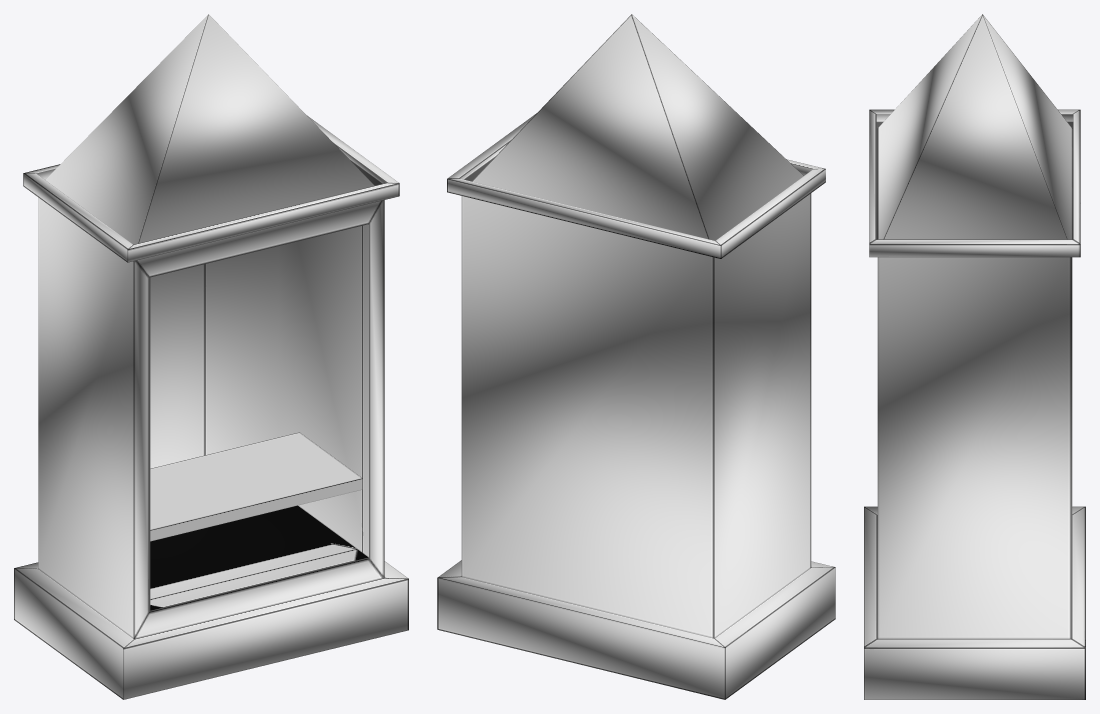
The model's file is Librero.fbx.
The picture shows the model from 3 angles, left to right: view 1: azimuth 30°, elevation 25°; view 2: azimuth 150°, elevation 25°; view 3: azimuth 270°, elevation 25°; orthographic projection.
Visible parts, largest first — view 1: Cube, Cube.003; view 2: Cube; view 3: Cube.
Boxes of the visible parts, box(x1,y1,x2,y2) form: Cube: box(14, 14, 408, 699); Cube.003: box(150, 432, 362, 541); Cube: box(437, 14, 835, 699); Cube: box(864, 14, 1085, 699).
Bounding box in the file's own units: 598 × 1217 × 397.
4 materials, 4 textured.
